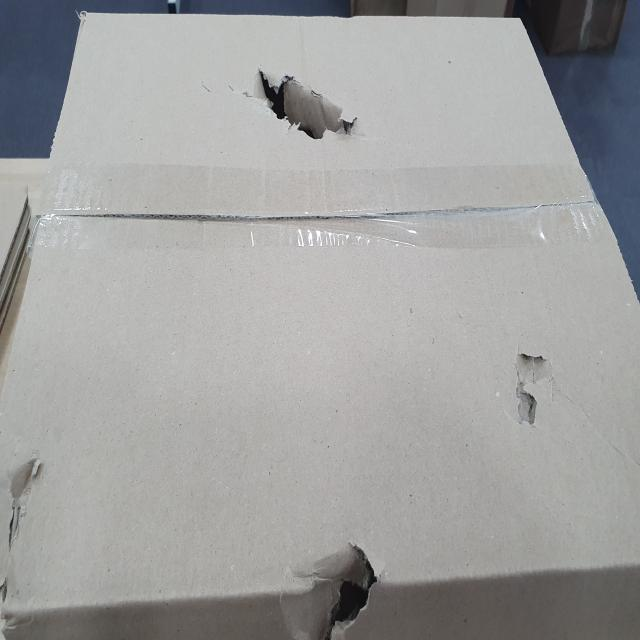hole: (287, 535, 380, 639), (256, 63, 360, 141), (503, 346, 568, 432)
